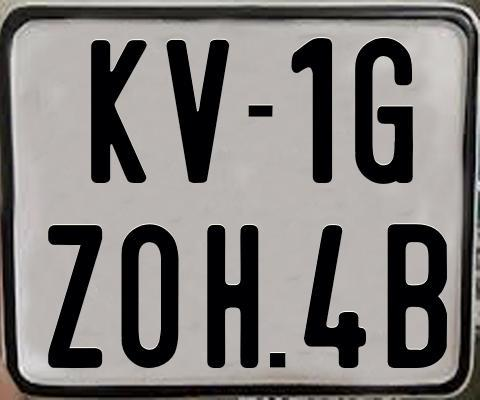0: (120, 221, 181, 366)
1: (291, 36, 338, 186)
4: (303, 224, 371, 367)
B: (387, 222, 447, 371)
G: (352, 38, 416, 185)
H: (206, 224, 257, 369)
K: (91, 38, 150, 182)
V: (164, 37, 231, 180)
Z: (47, 225, 107, 374)
